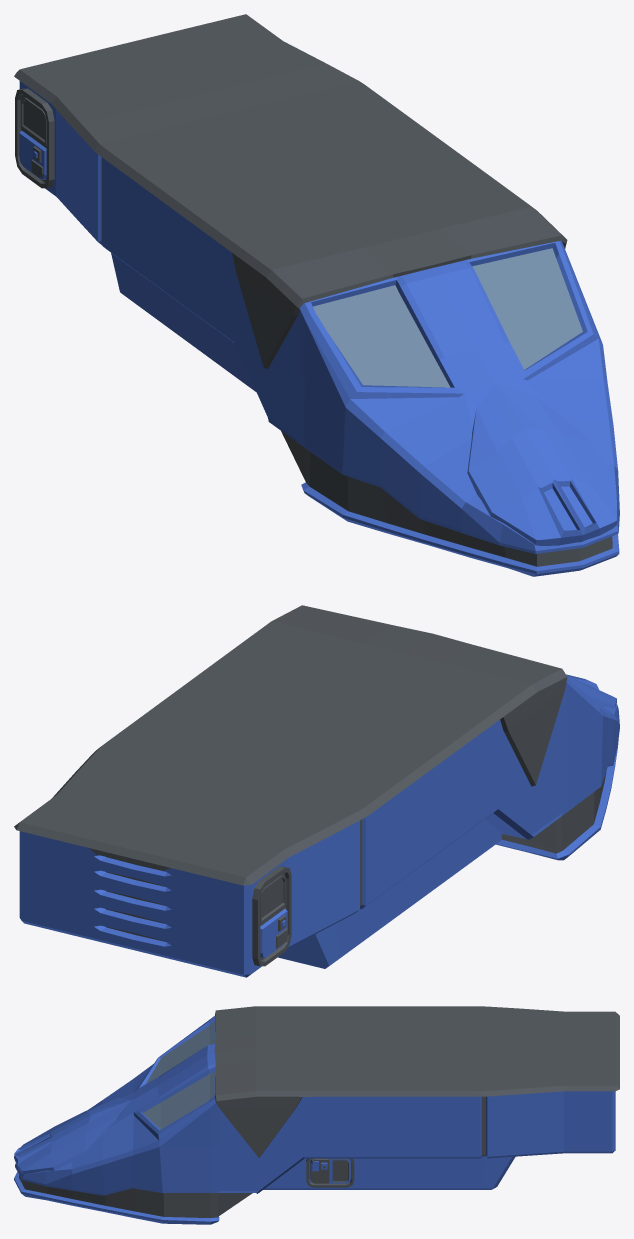
File: Fighter_04_Body_Blue.fbx
The picture shows the model from 3 angles, top to bottom: view 1: azimuth 30°, elevation 25°; view 2: azimuth 150°, elevation 25°; view 3: azimuth 270°, elevation 25°; orthographic projection. The views are drawn at different scales.
Parts seen in each view (by area): view 1: Fighter_04_Body_Blue; view 2: Fighter_04_Body_Blue; view 3: Fighter_04_Body_Blue.
Part boxes in pixels (<box>): Fighter_04_Body_Blue: <box>14,14,619,576</box>; Fighter_04_Body_Blue: <box>14,605,619,977</box>; Fighter_04_Body_Blue: <box>14,1006,619,1224</box>.
Bounding box in the file's own units: 538 × 381 × 1554.
3 materials, 3 textured.
